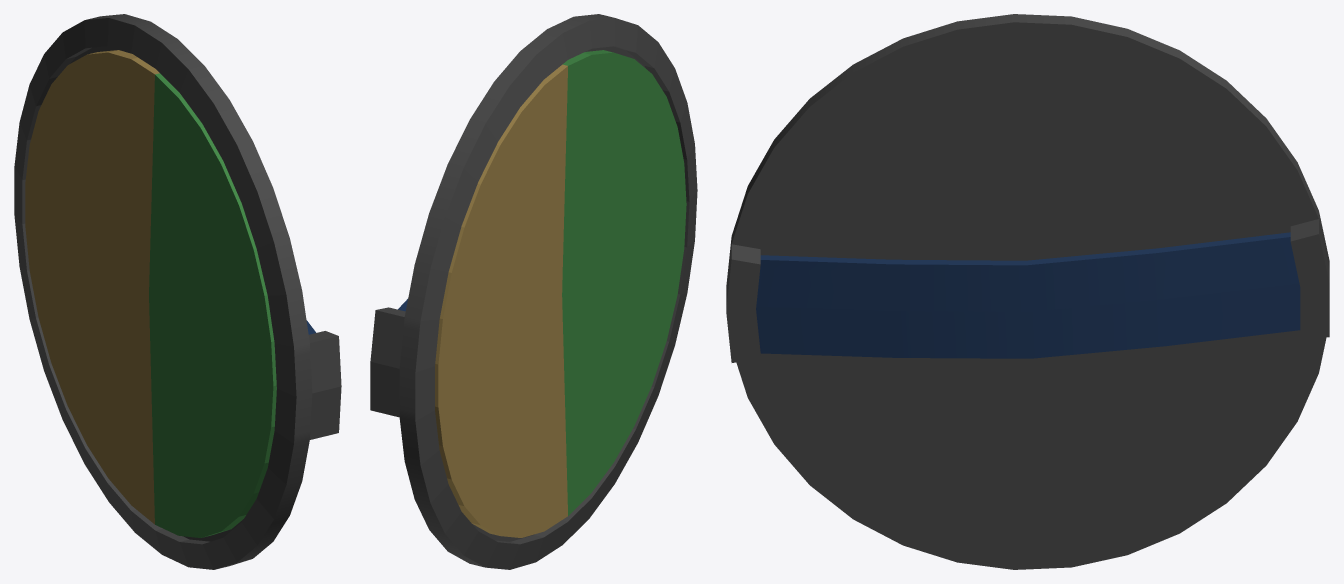
File: Handless_Paddle.fbx
The picture shows the model from 3 angles, left to right: view 1: azimuth 30°, elevation 25°; view 2: azimuth 150°, elevation 25°; view 3: azimuth 270°, elevation 25°; orthographic projection. The views are drawn at different scales.
Parts seen in each view (by area): view 1: Handless_Paddle; view 2: Handless_Paddle; view 3: Handless_Paddle.
Part boxes in pixels (<box>): Handless_Paddle: <box>14,14,341,569</box>; Handless_Paddle: <box>370,14,697,569</box>; Handless_Paddle: <box>726,14,1329,569</box>.
Size of the model in its own units: 3.6 by 23.52 by 23.5.
